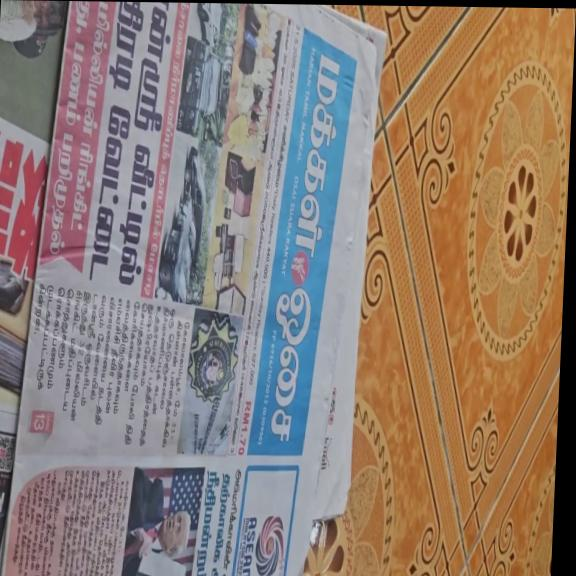Kertas: (0, 1, 318, 576)
